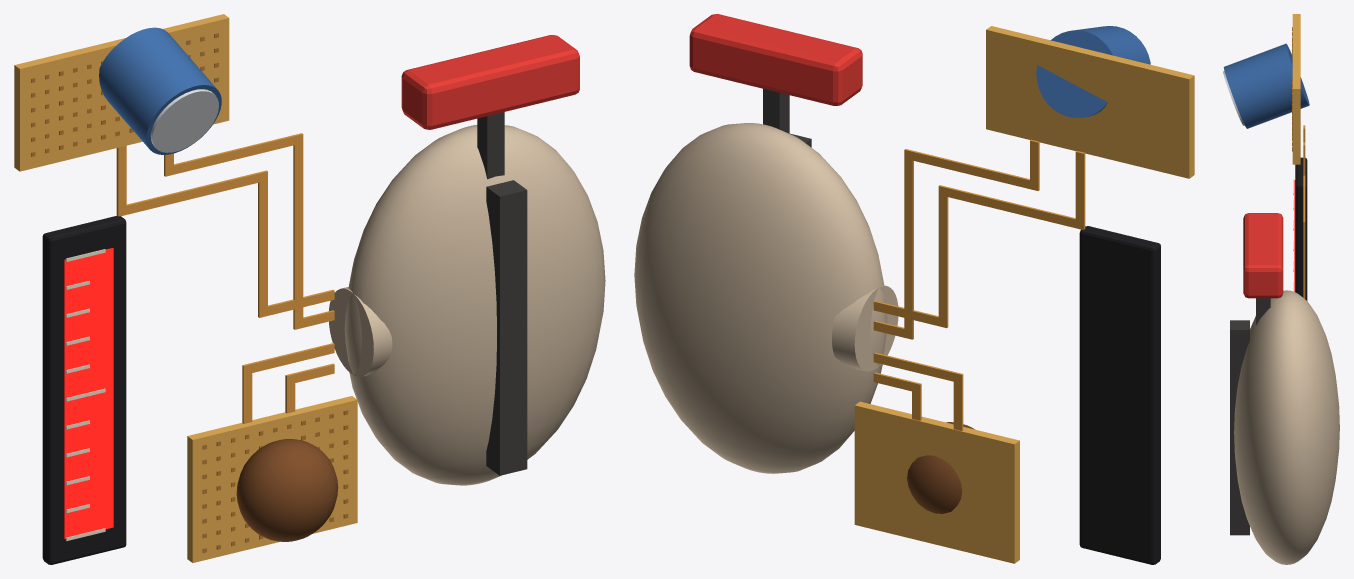
The model's file is capacitor_module.glb.
3 renders of one model, left to right at view 1: azimuth 30°, elevation 25°; view 2: azimuth 150°, elevation 25°; view 3: azimuth 270°, elevation 25°, orthographic. The views are drawn at different scales.
Visible parts, largest first — view 1: cap_dome, cap_meter, cap_board_top, cap_board_low, cap_fill, part_cap_lever, cap_slot, cap_dome_small, cap_can, cap_can_top, cap_neck, cap_trace_b_2 (+10 smaller); view 2: cap_dome, cap_meter, cap_board_top, cap_board_low, part_cap_lever, cap_can, cap_neck, cap_dome_small, cap_trace_b_2, cap_trace_a_1, cap_trace_a_2, cap_trace_b_1 (+4 smaller); view 3: cap_dome, cap_can, part_cap_lever, cap_slot, cap_meter, cap_board_top, cap_stem, cap_fill, cap_trace_b_2.
Boxes of the visible parts, x1,y1,x2,y2 form: cap_dome: [344, 125, 605, 485]; cap_meter: [42, 216, 126, 564]; cap_board_top: [14, 14, 229, 171]; cap_board_low: [187, 396, 357, 562]; cap_fill: [64, 248, 113, 539]; part_cap_lever: [401, 35, 579, 129]; cap_slot: [486, 180, 527, 475]; cap_dome_small: [236, 439, 338, 541]; cap_can: [99, 27, 221, 154]; cap_can_top: [150, 89, 218, 152]; cap_neck: [329, 287, 392, 376]; cap_trace_b_2: [293, 133, 303, 329]; cap_dome: [634, 123, 887, 473]; cap_meter: [1079, 226, 1160, 564]; cap_board_top: [986, 26, 1194, 178]; cap_board_low: [854, 401, 1019, 563]; part_cap_lever: [689, 14, 862, 105]; cap_can: [1036, 26, 1150, 117]; cap_neck: [832, 285, 898, 371]; cap_dome_small: [907, 422, 974, 513]; cap_trace_b_2: [904, 149, 913, 339]; cap_trace_a_1: [938, 185, 1084, 229]; cap_trace_a_2: [938, 186, 948, 328]; cap_trace_b_1: [904, 149, 1039, 190]; cap_dome: [1234, 290, 1339, 564]; cap_can: [1223, 43, 1309, 128]; part_cap_lever: [1243, 213, 1283, 298]; cap_slot: [1230, 320, 1249, 535]; cap_meter: [1295, 157, 1307, 300]; cap_board_top: [1292, 14, 1300, 164]; cap_stem: [1256, 298, 1270, 325]; cap_fill: [1294, 180, 1295, 291]; cap_trace_b_2: [1303, 221, 1305, 298].
Size of the model in its own units: 0.735 by 0.6741 by 0.1756.
